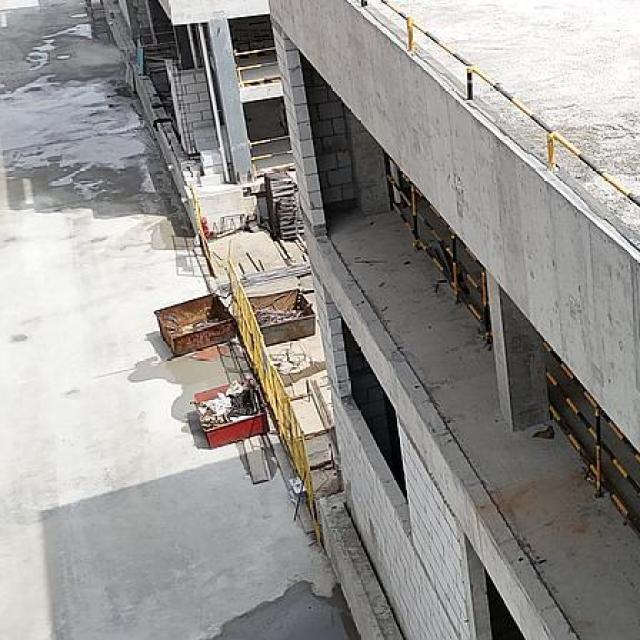edge_guardrail: (378, 0, 640, 207), (541, 341, 640, 535), (384, 170, 490, 343), (233, 46, 278, 84), (250, 134, 293, 162)
